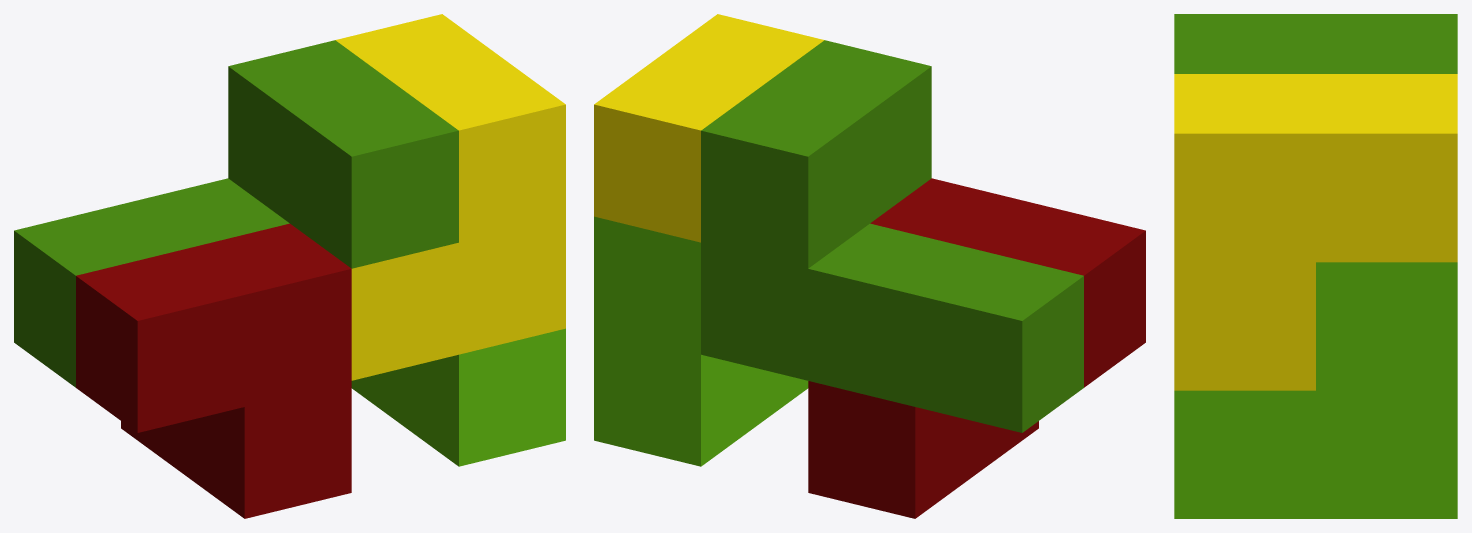
3 renders of one model, left to right at view 1: azimuth 30°, elevation 25°; view 2: azimuth 150°, elevation 25°; view 3: azimuth 270°, elevation 25°, orthographic. The views are drawn at different scales.
Visible parts, largest first — view 1: mergedBlocks(Clone); view 2: mergedBlocks(Clone); view 3: mergedBlocks(Clone).
Part boxes in pixels (x1=…): mergedBlocks(Clone): x1=14, y1=14, x2=565, y2=518; mergedBlocks(Clone): x1=594, y1=14, x2=1145, y2=518; mergedBlocks(Clone): x1=1174, y1=14, x2=1457, y2=518.
Size of the model in its own units: 4 by 3 by 2.
Materials: 4 (4 with a texture image).
